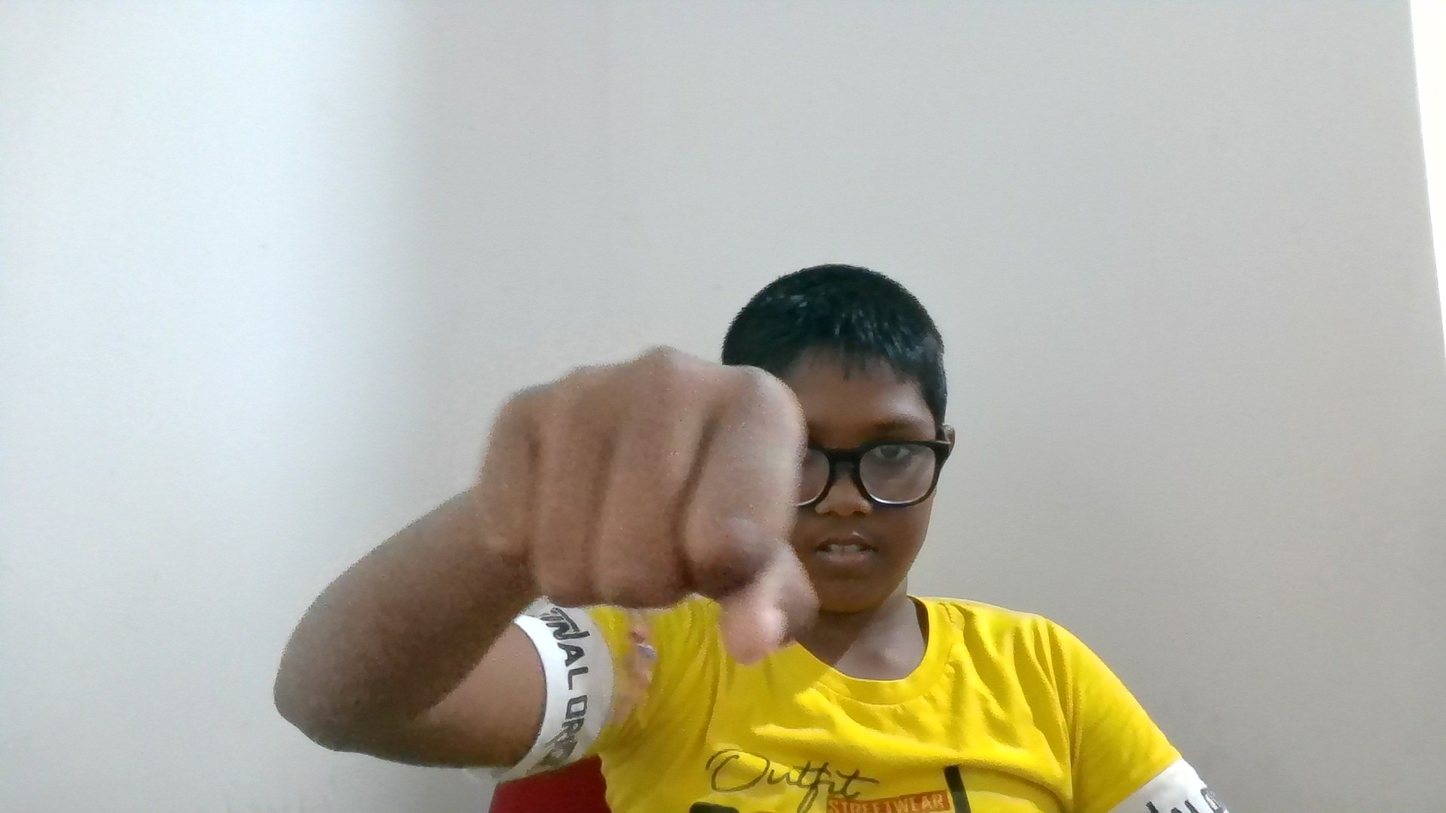Yes: (309, 314, 911, 690)
